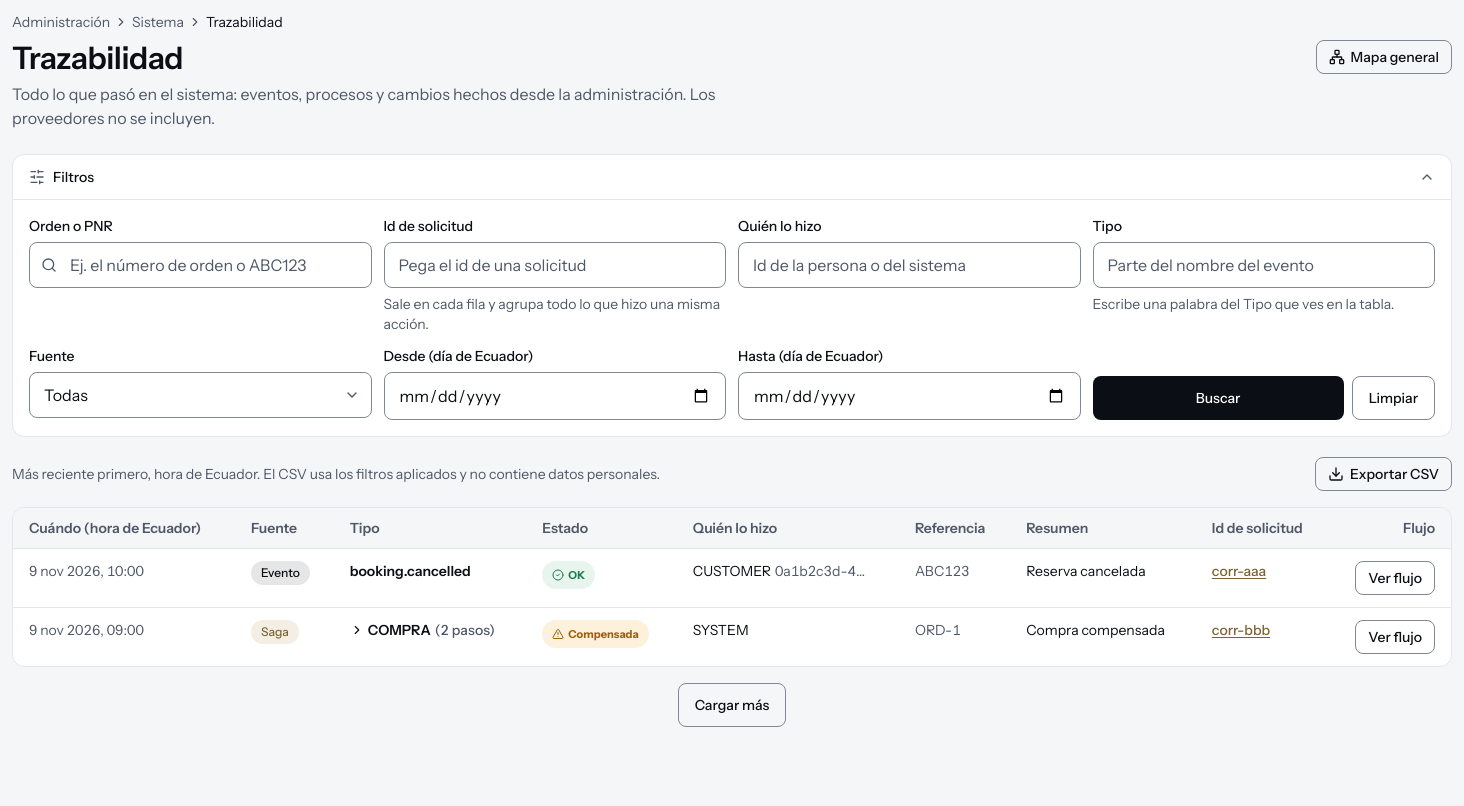
AdminAuditPage (trazabilidad) › expands a saga row with its steps in order
Click the button with aria-label "Ver los pasos de la saga COMPRA": x=422, y=630 [350,620,495,640]
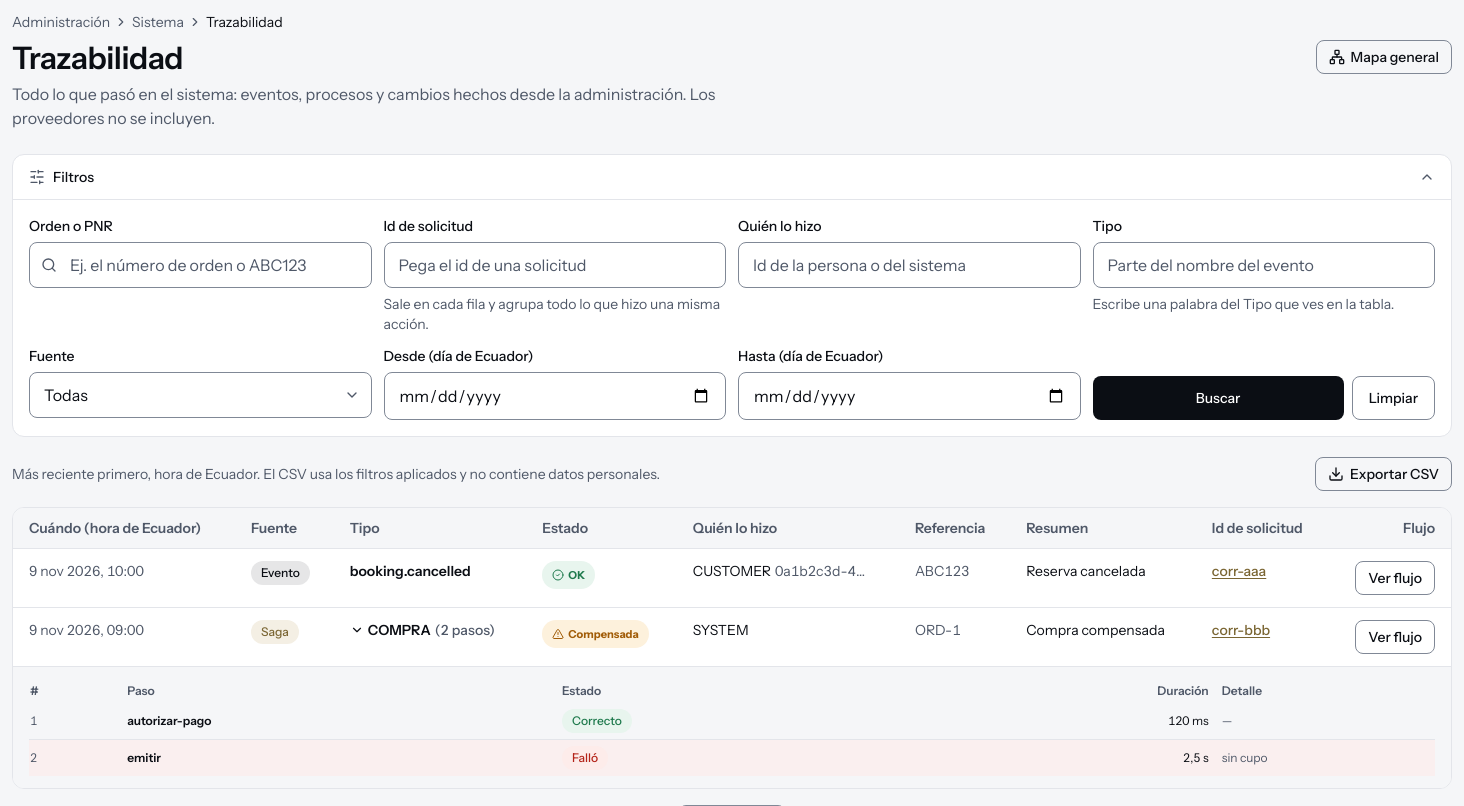
Expected: the text "2,5 s" is shown, [932,740,1221,776]
Expected: the text "Falló" is shown, [562,746,608,770]
